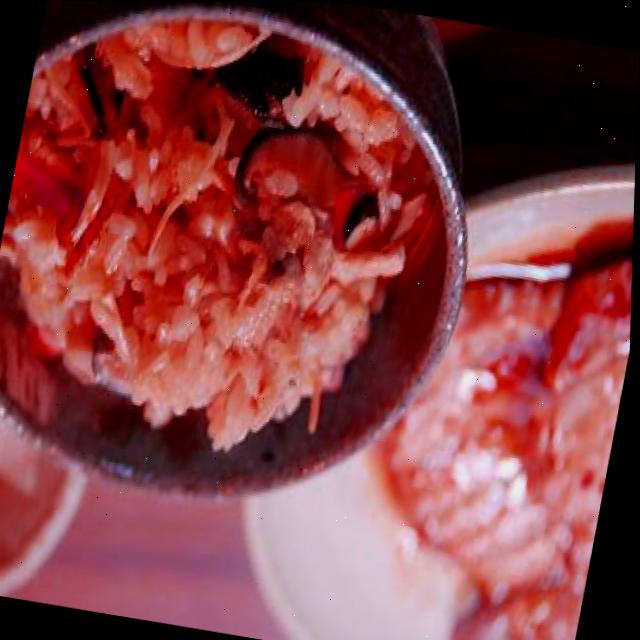米饭主食: (0, 23, 444, 463)
